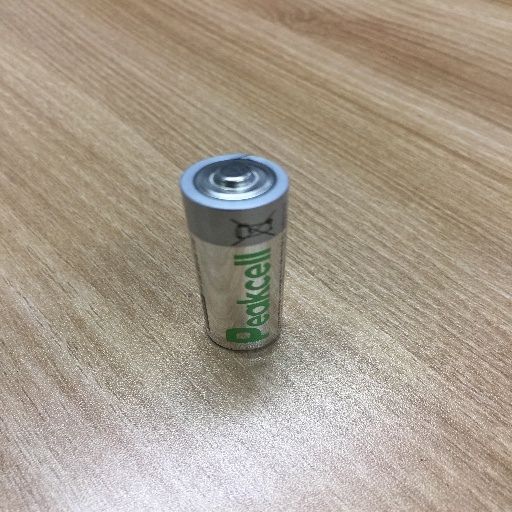Battery_0: (172, 147, 307, 367)
